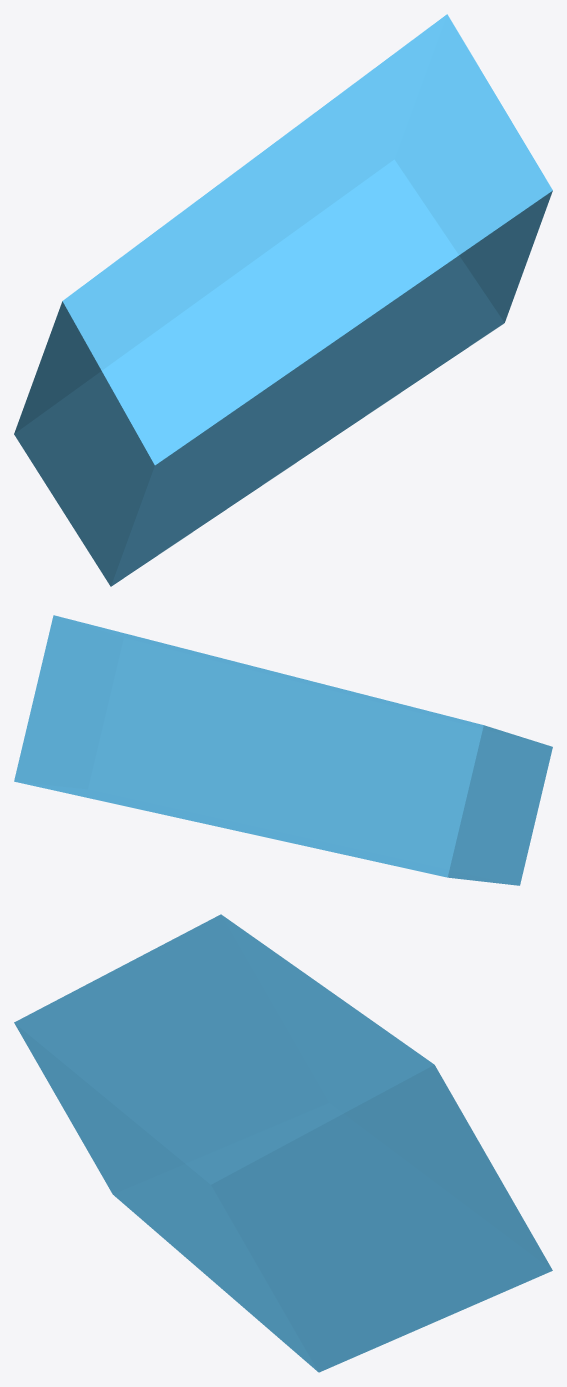
Rendered from Event_420604493_HErechit_43.fbx.
3 views of the same model, one above another, from view 1: azimuth 30°, elevation 25°; view 2: azimuth 150°, elevation 25°; view 3: azimuth 270°, elevation 25° (orthographic). The views are drawn at different scales.
Parts seen in each view (by area): view 1: Model; view 2: Model; view 3: Model.
Boxes of the visible parts, x1,y1,x2,y2 form: Model: [14, 14, 552, 586]; Model: [14, 615, 552, 885]; Model: [14, 914, 552, 1372].
Size of the model in its own units: 1.03 by 0.7081 by 0.8823.
